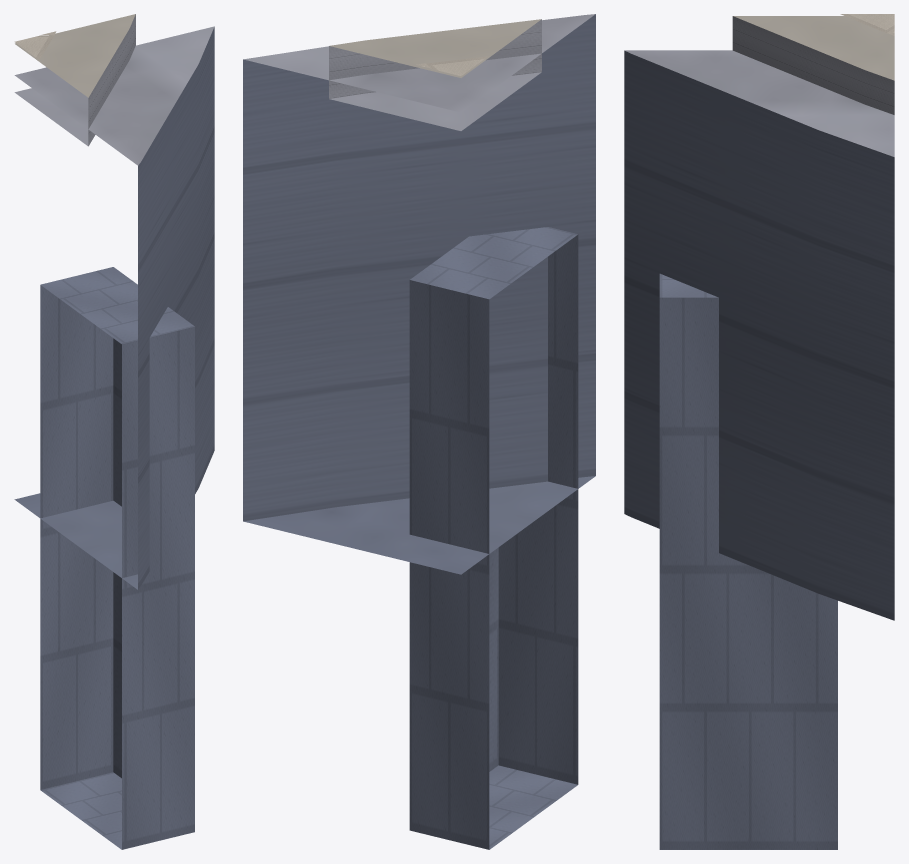
File: high_crown_fracture_62.obj
The picture shows the model from 3 angles, left to right: view 1: azimuth 30°, elevation 25°; view 2: azimuth 150°, elevation 25°; view 3: azimuth 270°, elevation 25°; orthographic projection. The views are drawn at different scales.
Visible parts, largest first — view 1: ArenaFracture62; view 2: ArenaFracture62; view 3: ArenaFracture62.
Boxes of the visible parts, <box> form: ArenaFracture62: <box>14,14,214,849</box>; ArenaFracture62: <box>243,14,595,849</box>; ArenaFracture62: <box>624,14,894,849</box>.
Size of the model in its own units: 2.32 by 8.08 by 2.48.
4 materials, 4 textured.
